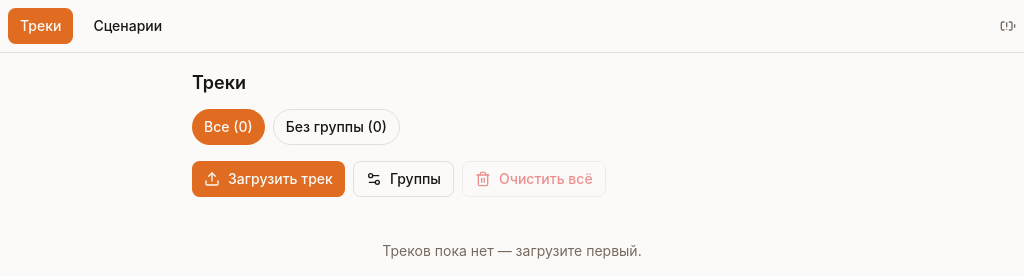
Test case: <App /> › по умолчанию показывает экран треков, переключается на сценарии по табу
Check: the heading "Треки" is shown, box [192,69,246,97]
Click the button "Сценарии": (128, 26) [81,8,174,44]
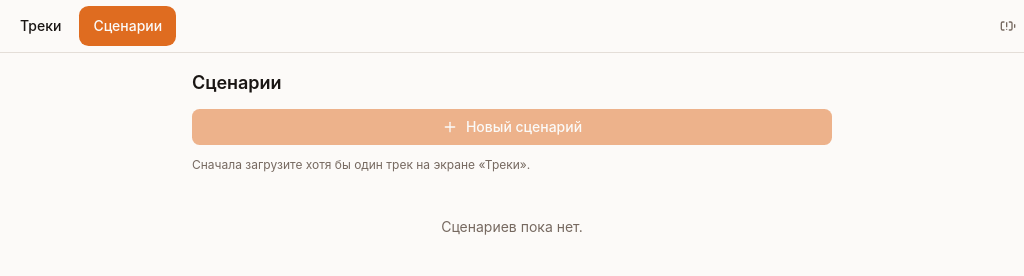
Check: the heading "Сценарии" is shown, box [192,69,282,97]
